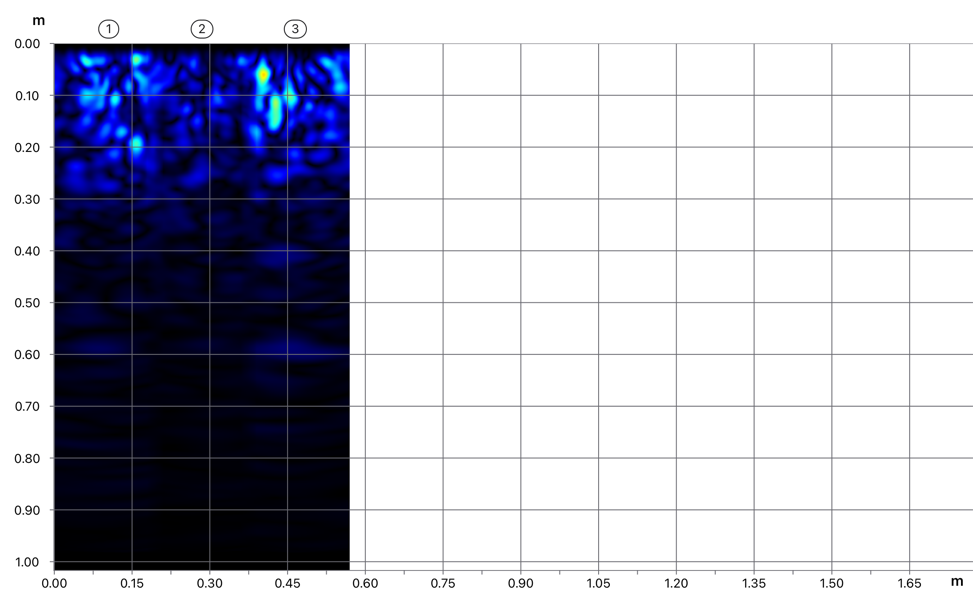crop: (0, 2, 350, 331)
